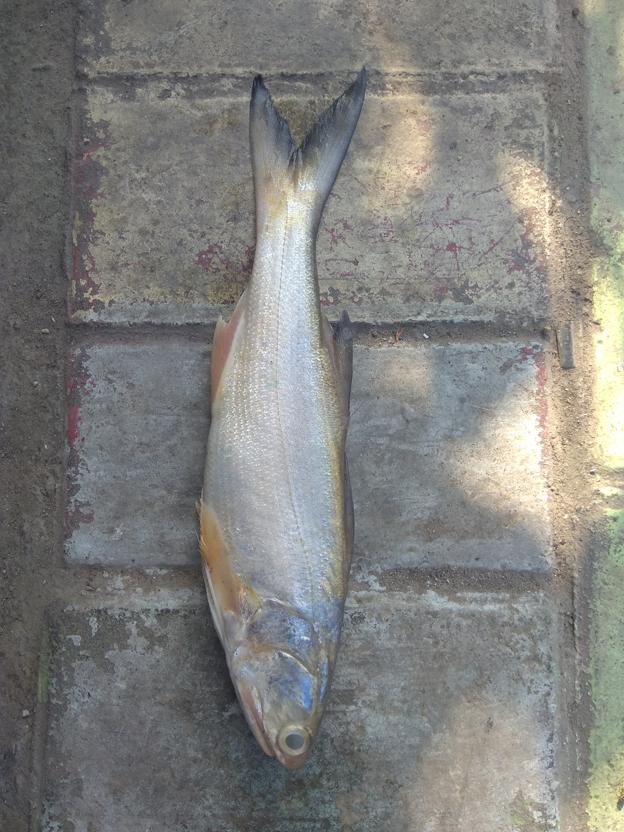Fish head: (213, 617, 339, 768)
Fish tail: (250, 62, 368, 220)
